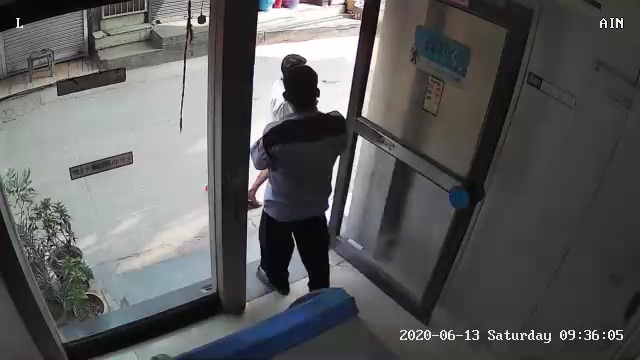open: (199, 7, 532, 340)
